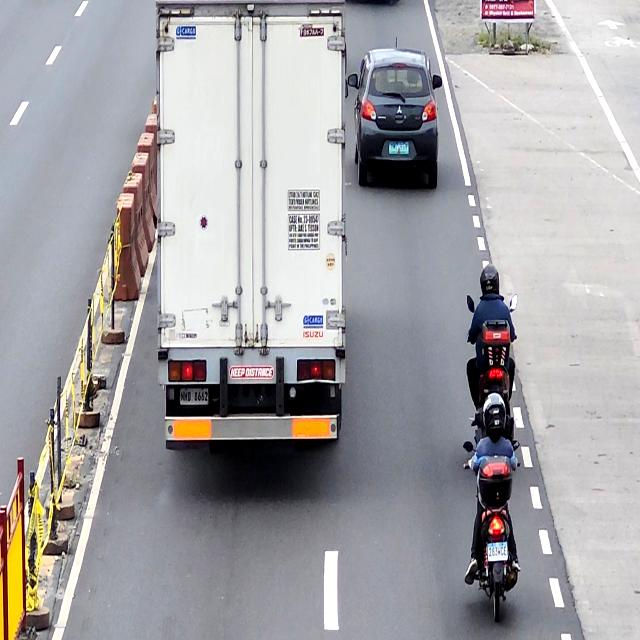Car: (347, 46, 442, 188)
License-Plate: (178, 387, 208, 406), (487, 542, 508, 561), (389, 140, 409, 154)
Motorcycle: (463, 437, 520, 623), (467, 290, 518, 436)
Truck: (153, 0, 348, 448)
